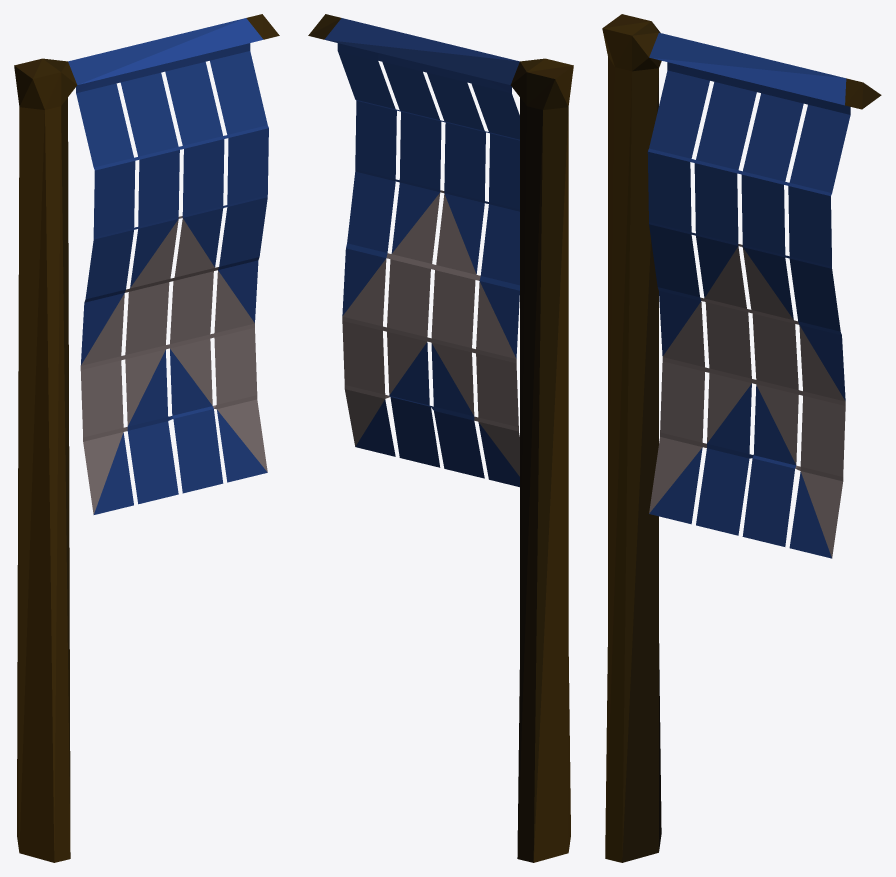
Rendered from flag_pole.obj.
The picture shows the model from 3 angles, left to right: view 1: azimuth 30°, elevation 25°; view 2: azimuth 150°, elevation 25°; view 3: azimuth 330°, elevation 25°; orthographic projection. The views are drawn at different scales.
Parts seen in each view (by area): view 1: Object Standard 2026-09-21_11-30-33; view 2: Object Standard 2026-09-21_11-30-33; view 3: Object Standard 2026-09-21_11-30-33.
Part boxes in pixels (box(x1,y1,x2,y2)): Object Standard 2026-09-21_11-30-33: box(14, 14, 279, 862); Object Standard 2026-09-21_11-30-33: box(308, 14, 573, 862); Object Standard 2026-09-21_11-30-33: box(602, 14, 881, 862).
Size of the model in its own units: 124 by 368 by 32.
